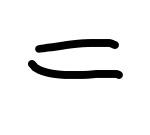eqv: (27, 39, 124, 80)
